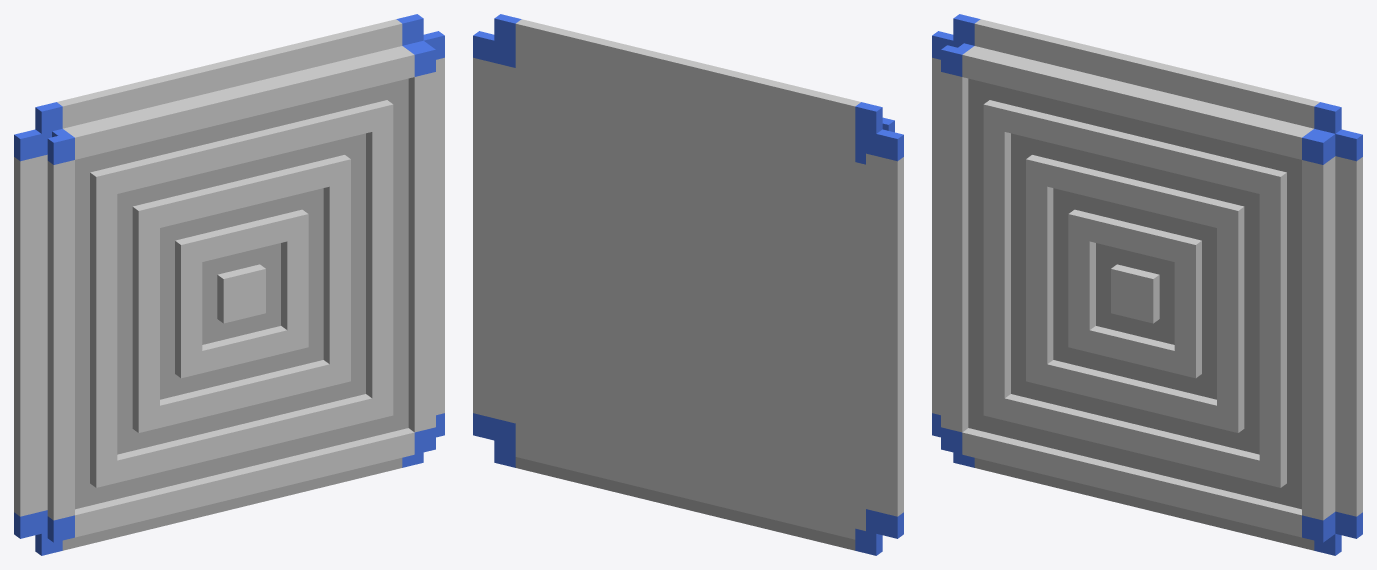
File: BeaconBox01.obj
3 views of the same model, side by side, from view 1: azimuth 30°, elevation 25°; view 2: azimuth 150°, elevation 25°; view 3: azimuth 330°, elevation 25° (orthographic).
Size of the model in its own units: 40 by 40 by 3.
Materials: 1 (1 with a texture image).
